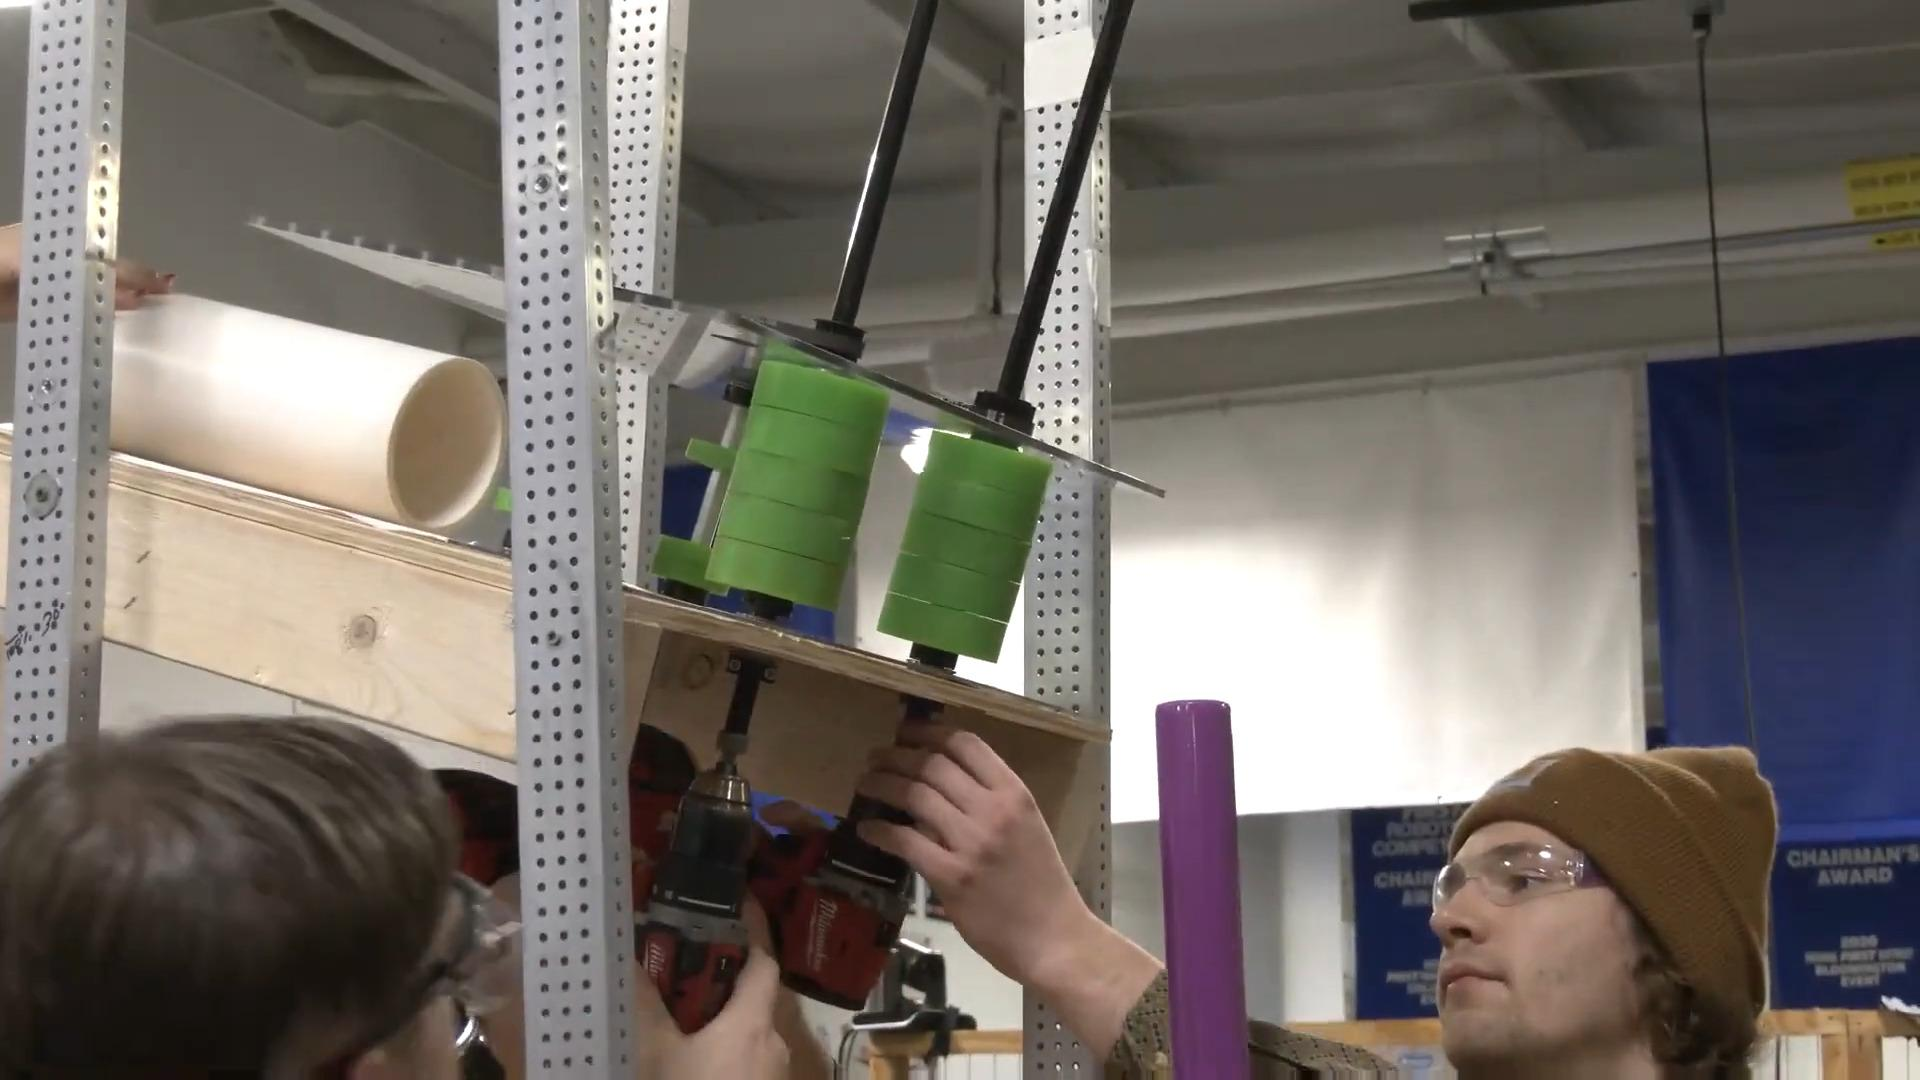coral: (105, 286, 510, 530)
